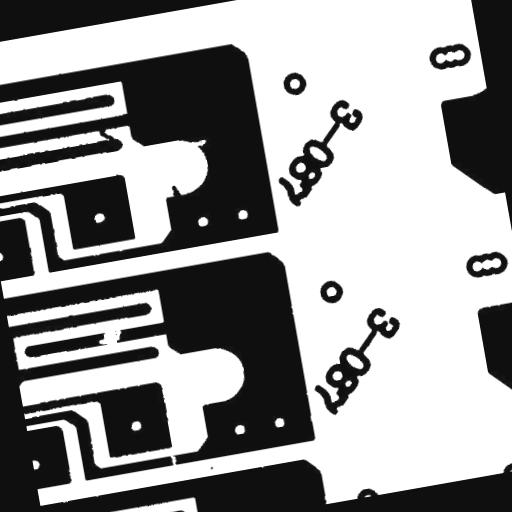mousebite: (178, 130, 215, 157)
open: (88, 320, 131, 355), (161, 444, 185, 474)
short: (88, 114, 122, 150)
spur: (162, 175, 190, 206)
